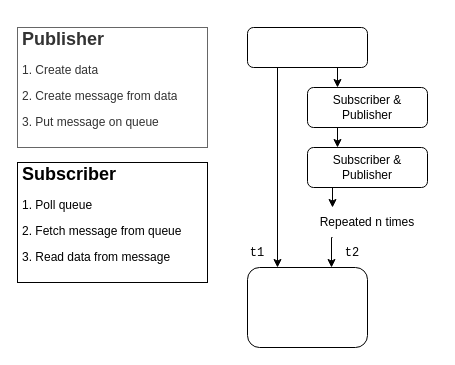
This 455x365 diagram has some shape labels left out. The centre of each missing label's shape, as x and y in pixels:
"Publisher" belongs at (307,47).
"Subscriber (Benchmarking code) Pub-sub latency: (t2 - t1)/n" belongs at (307,307).
